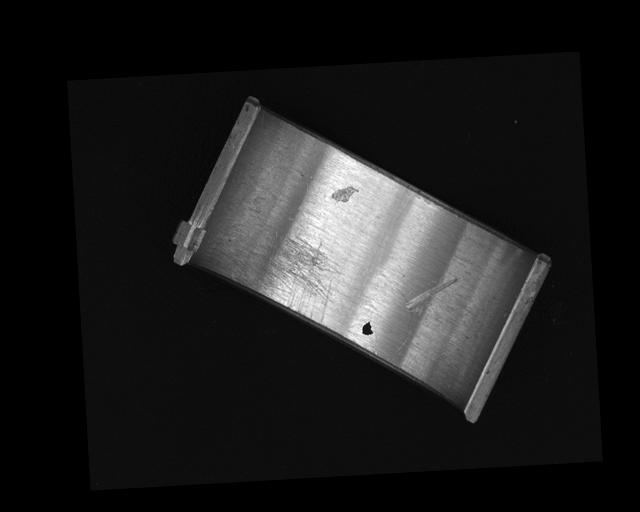blot: (361, 321, 374, 336)
bruise: (329, 186, 360, 204)
nick: (403, 277, 459, 308), (392, 284, 414, 352)
scratch: (236, 230, 347, 330)
